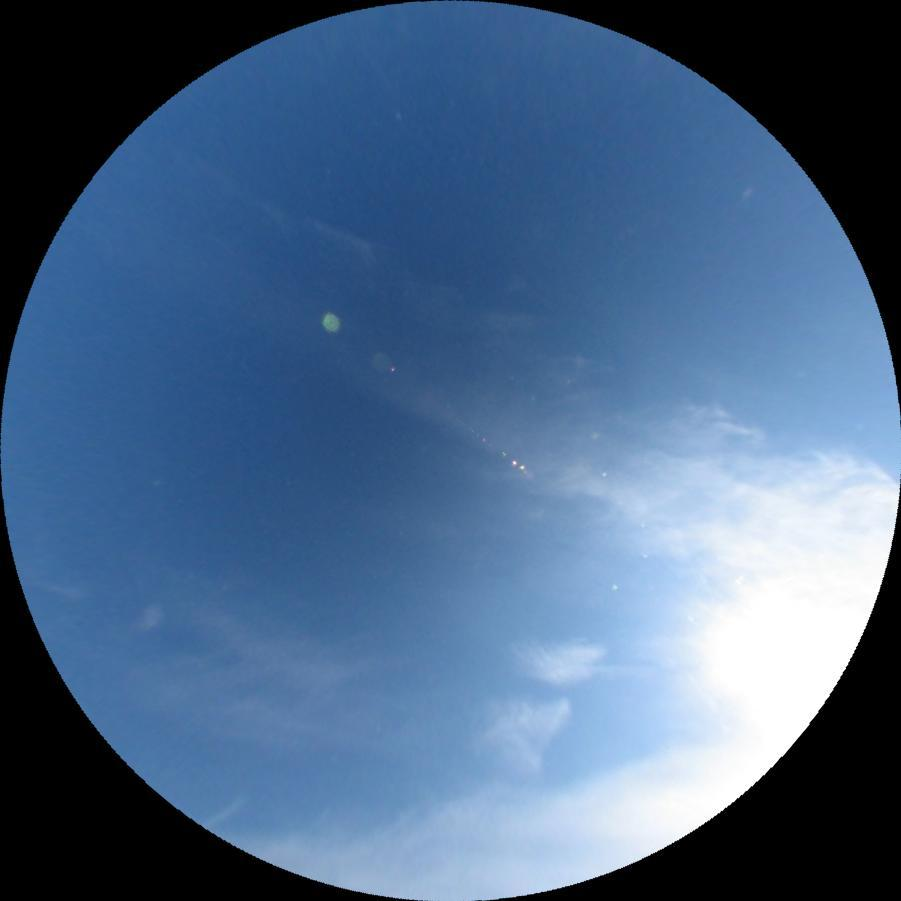contrail veryold: (124, 199, 881, 624), (455, 606, 607, 798)
unknow: (583, 663, 647, 676)
